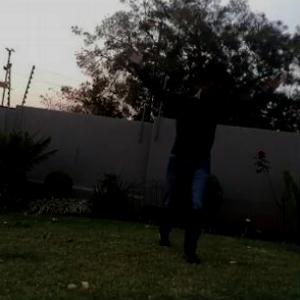takeoff: (126, 44, 291, 257)
